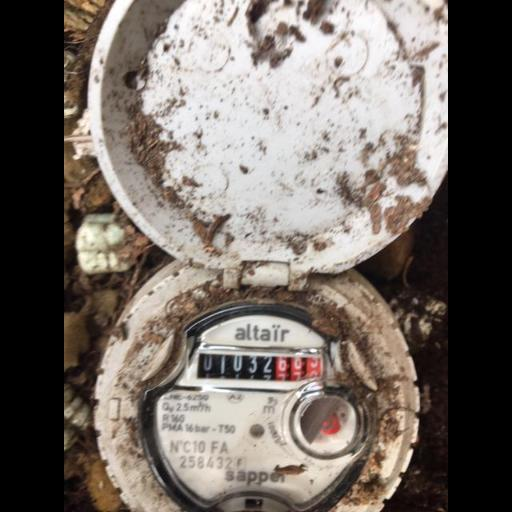0: (230, 355, 246, 379), (200, 353, 214, 378)
1: (216, 355, 229, 380)
2: (261, 356, 275, 381)
3: (245, 356, 260, 381)
4: (307, 357, 321, 379)
6: (276, 356, 289, 382), (290, 357, 302, 382)
border_water_meter_number: (174, 346, 336, 390)
